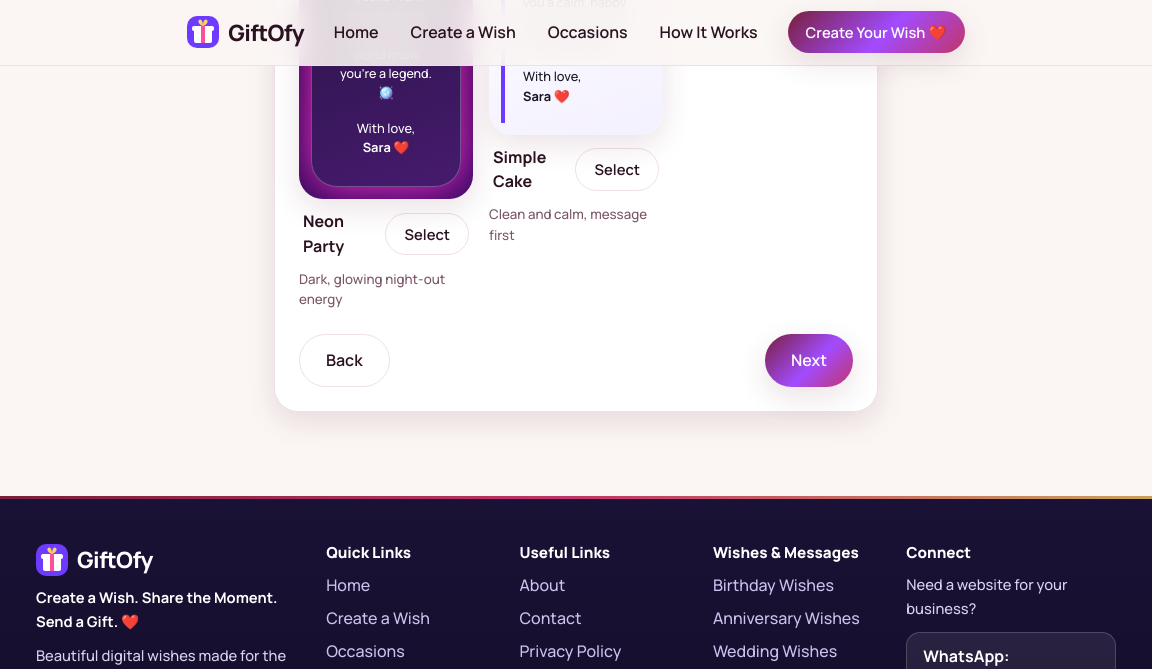
publish path with the real Supabase client › sends a schema-compatible INSERT and shows the share screen
(page scrolled)
Click the button "Next" at (809, 360), box [765,334,853,387]
(page scrolled)
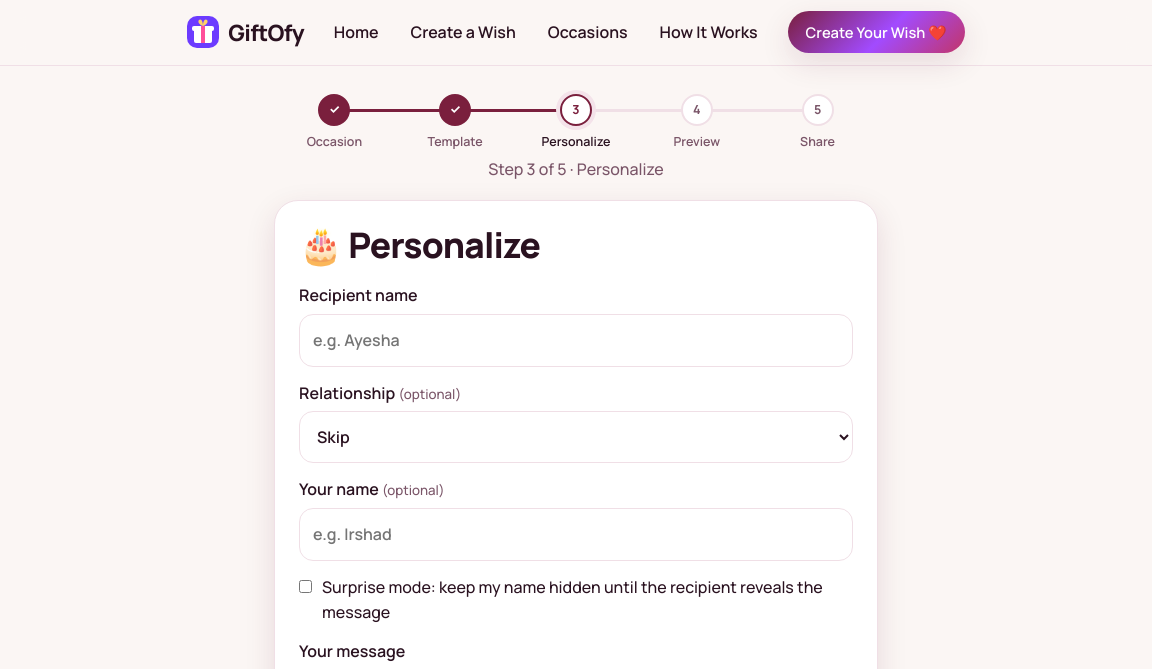
Type "Ayesha" into the field labelled "Recipient name" at (576, 340), box [299,314,853,367]
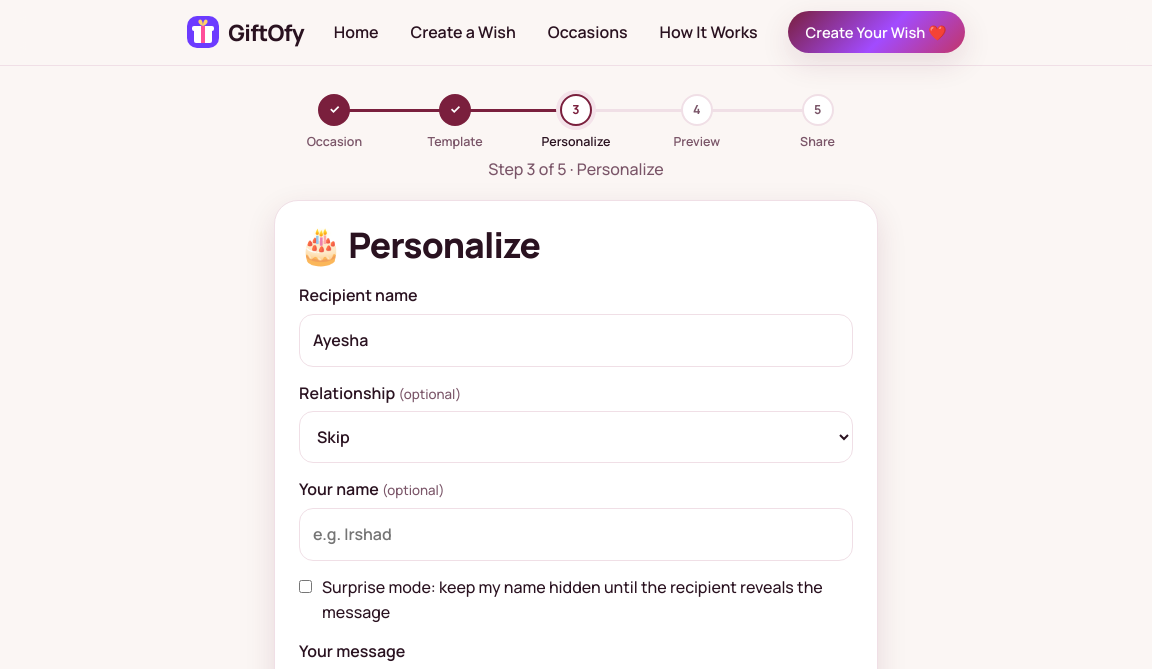
Type "Irshad" into the field labelled "Your name (optional)" at (576, 535), box [299,508,853,561]
(page scrolled)
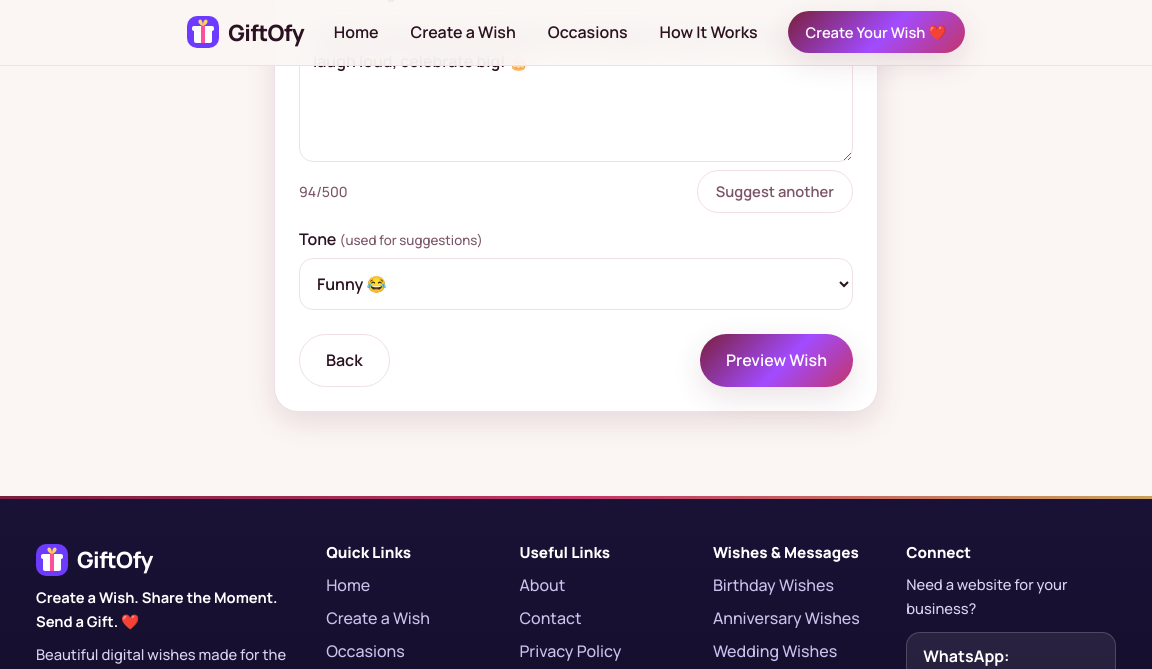
Click the button "Preview Wish" at (777, 360), box [700,334,853,387]
(page scrolled)
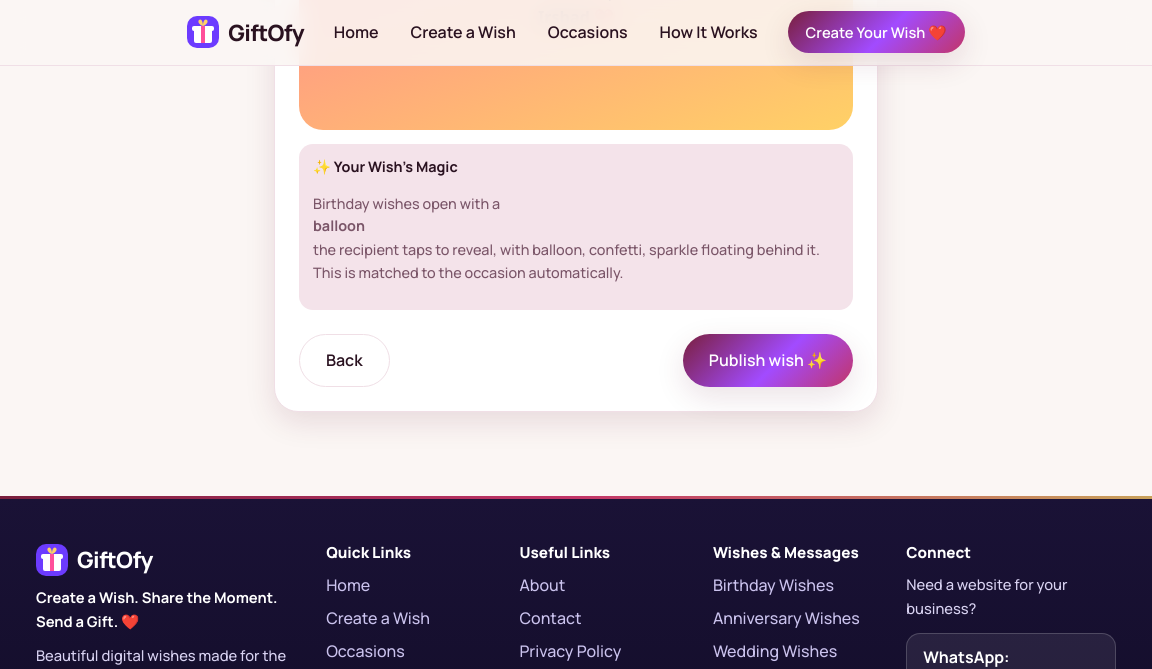
Click the button "Publish wish ✨" at (768, 361), box [683,334,853,387]
(page scrolled)
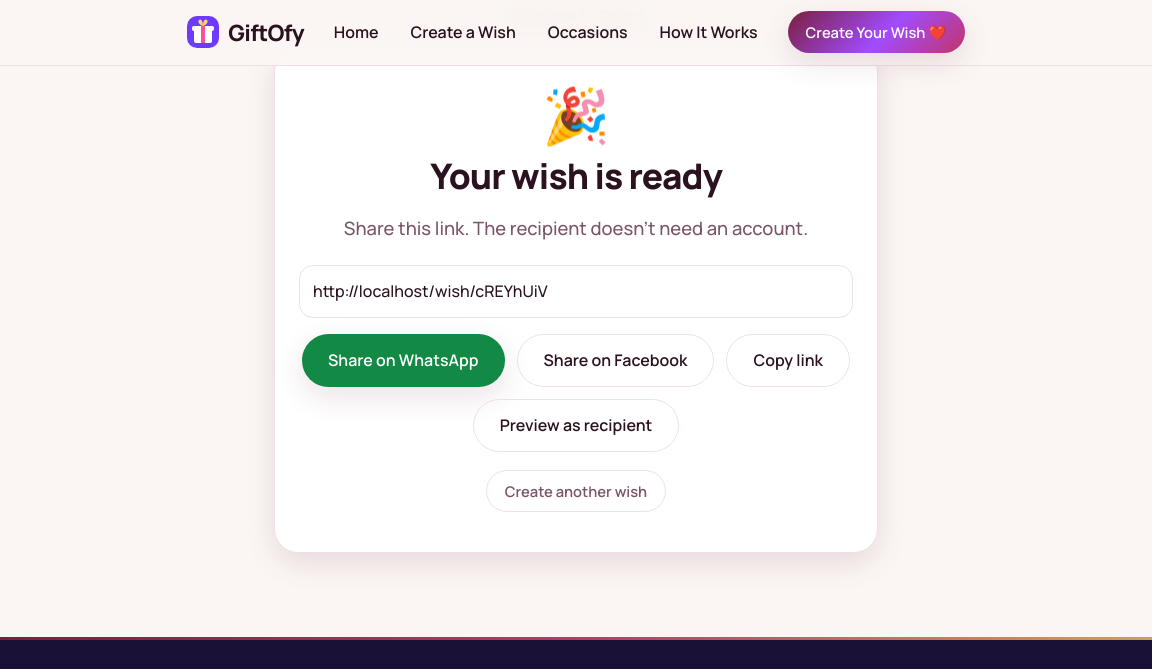
expect the link "Share on WhatsApp" is shown: met, box [302,334,504,387]
